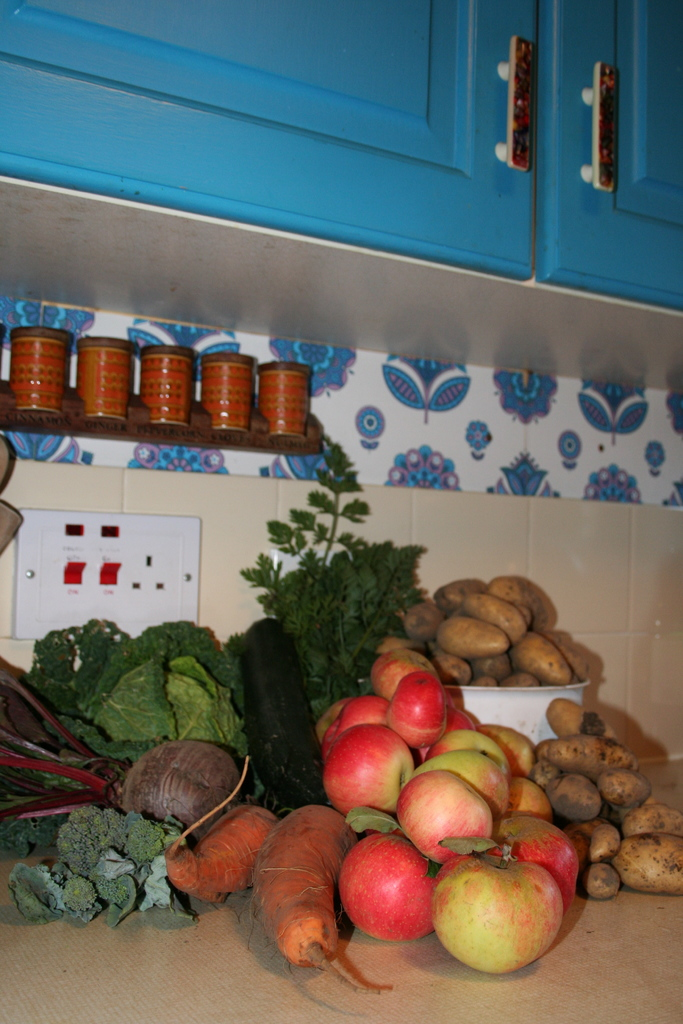Apple: (315, 645, 581, 944), (440, 851, 572, 976)
